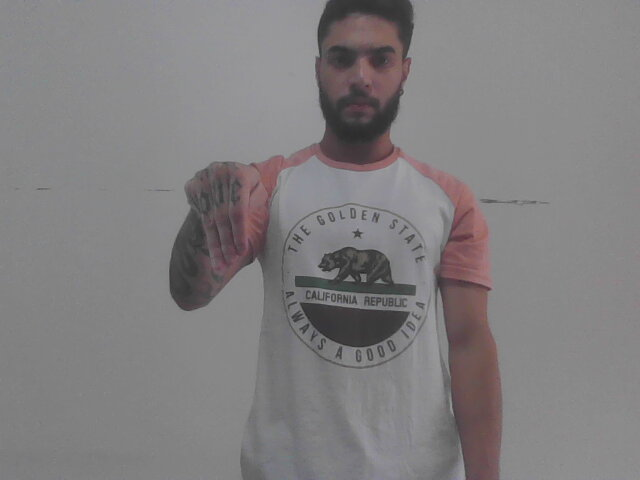m: (181, 151, 273, 271)
